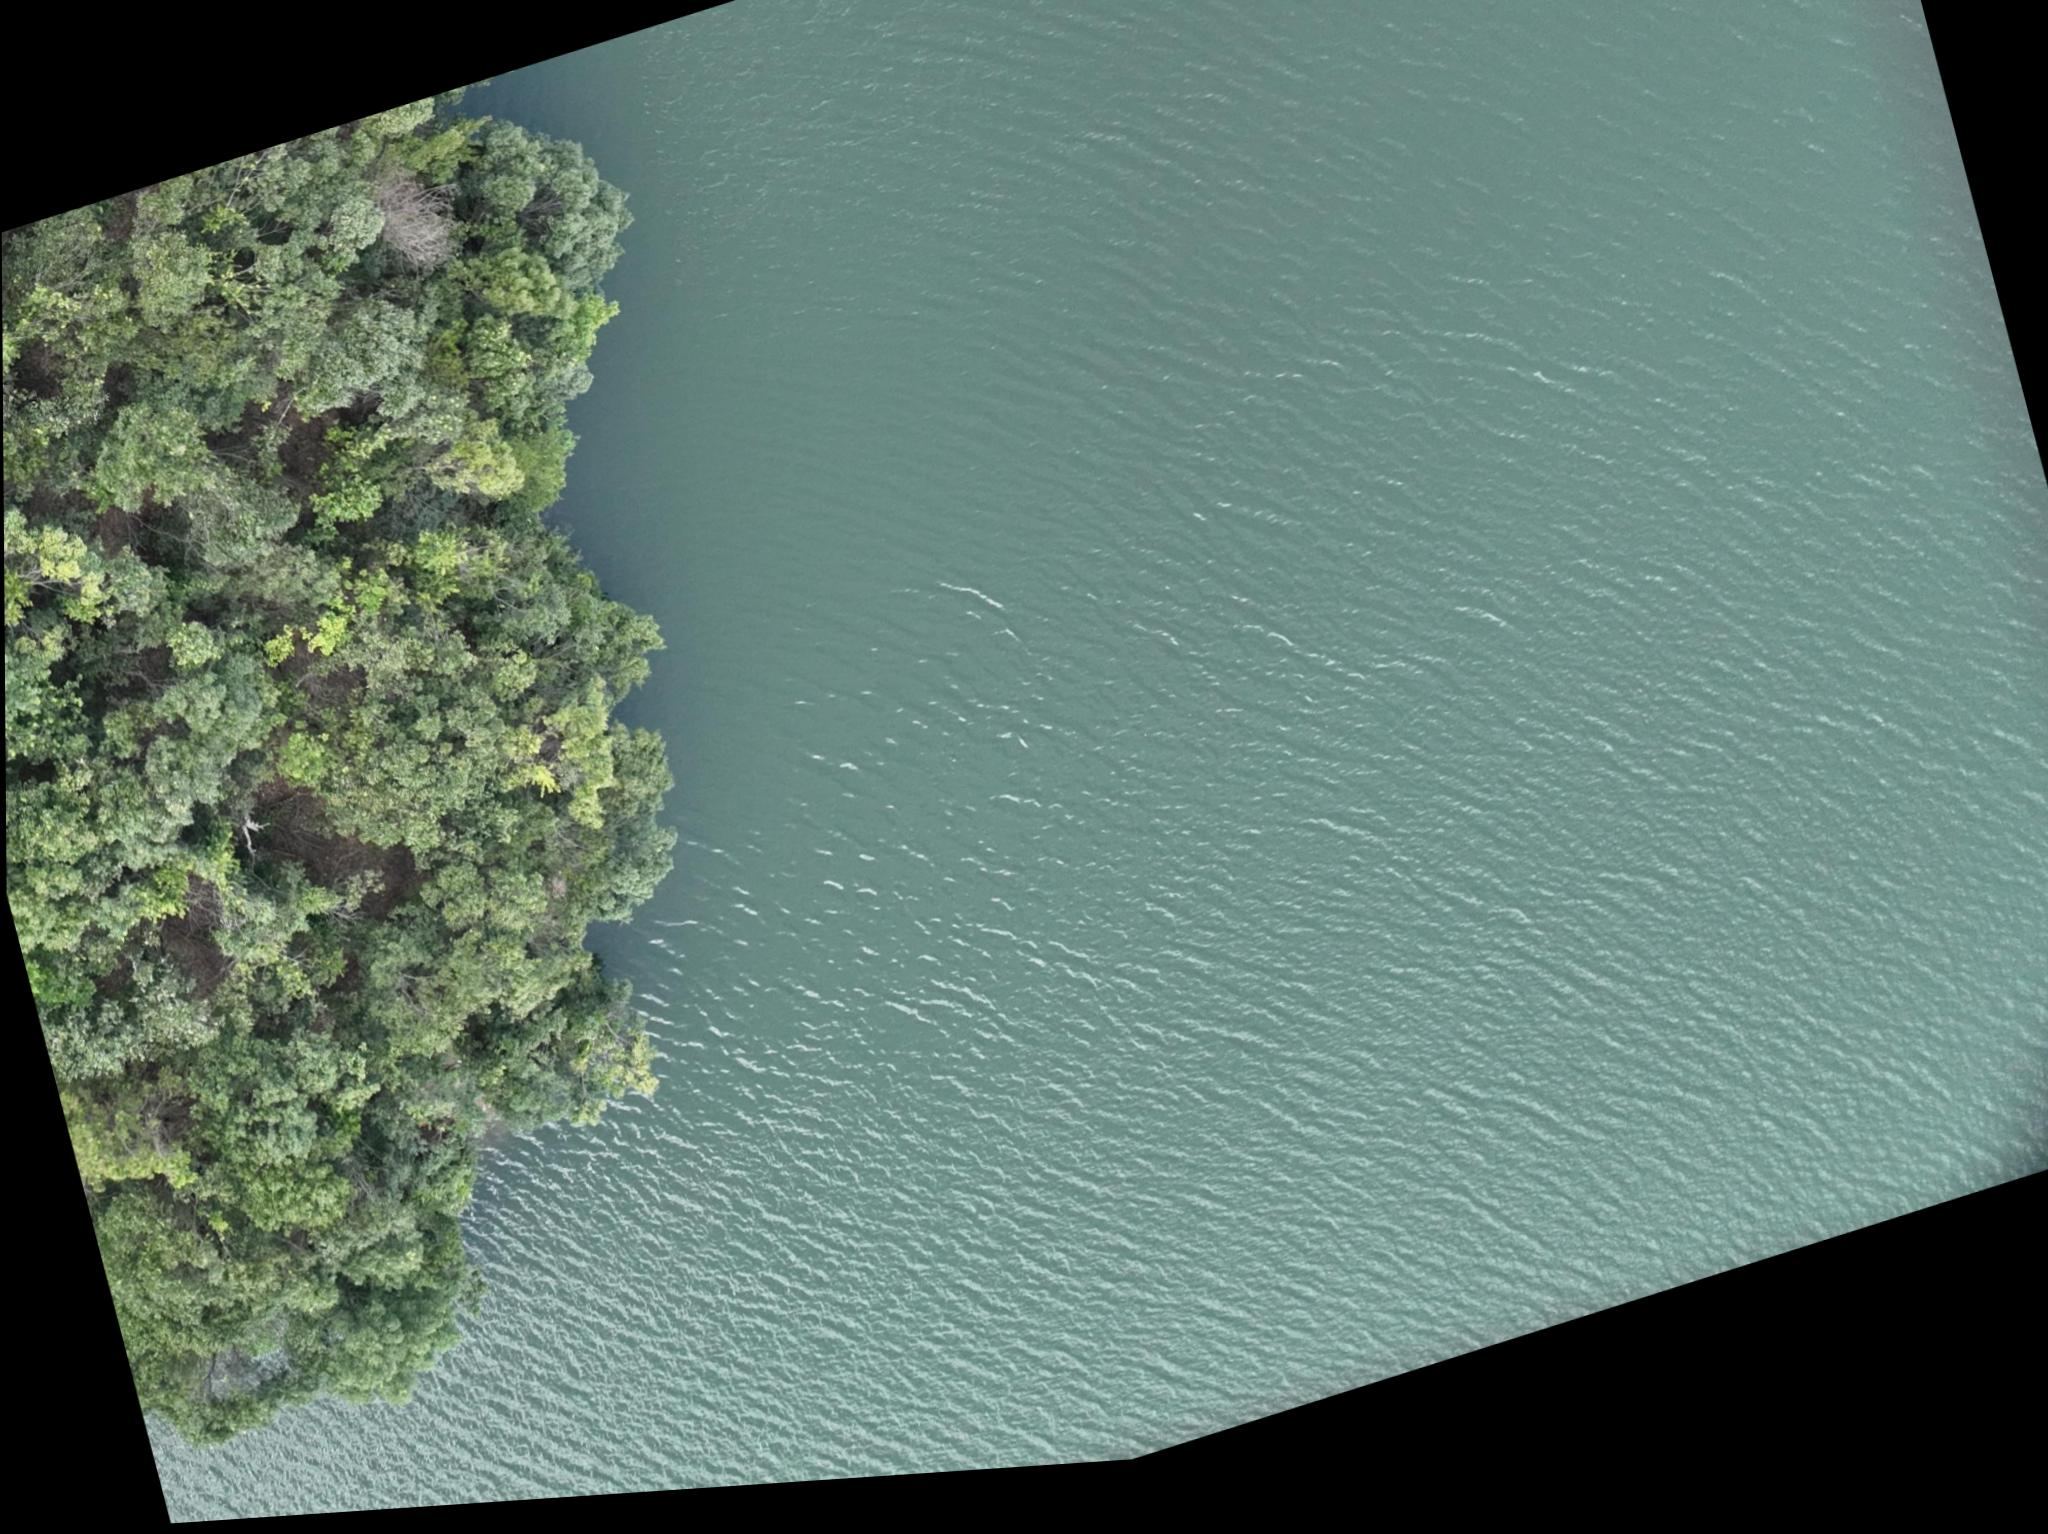dead: (364, 163, 461, 282)
